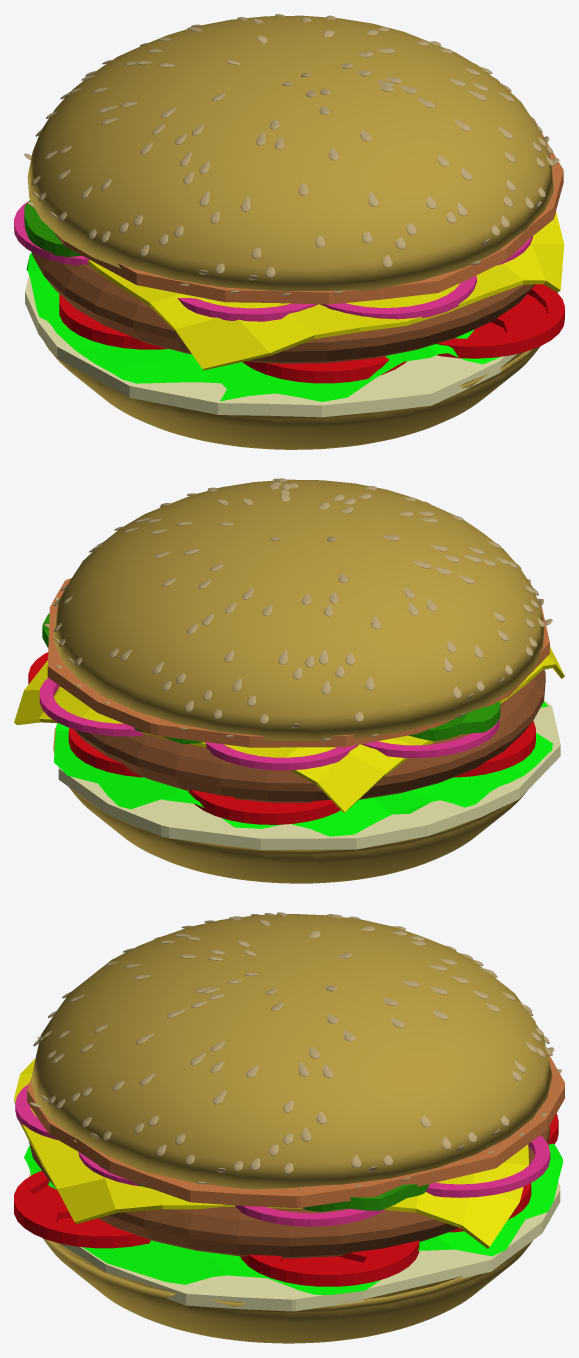
The model's file is M_hamburger.fbx.
3 views of the same model, one above another, from view 1: azimuth 30°, elevation 25°; view 2: azimuth 150°, elevation 25°; view 3: azimuth 270°, elevation 25° (orthographic). The views are drawn at different scales.
Visible parts, largest first — view 1: top broodje, Plane.002, Plane, bodem broodje, Cylinder.007, Plane.001, Plane.003, Cylinder.004, Cylinder.005, Cylinder.014, Cylinder.003, Cylinder.010 (+2 smaller); view 2: top broodje, Cylinder.007, Plane, bodem broodje, Plane.001, Plane.002, Plane.003, Cylinder.001, Cylinder.012, Cylinder.008, Cylinder.011, Cylinder.018 (+2 smaller); view 3: top broodje, bodem broodje, Cylinder.007, Plane.002, Plane.003, Plane, Plane.001, Cylinder.002, Cylinder.004, Cylinder.008, Cylinder.013, Cylinder.016 (+1 smaller).
Boxes of the visible parts, x1=… form: top broodje: x1=27, y1=15, x2=553, y2=294; Plane.002: x1=88, y1=211, x2=564, y2=370; Plane: x1=25, y1=275, x2=516, y2=417; bodem broodje: x1=44, y1=342, x2=540, y2=449; Cylinder.007: x1=32, y1=252, x2=535, y2=363; Plane.001: x1=26, y1=252, x2=500, y2=401; Plane.003: x1=54, y1=117, x2=563, y2=304; Cylinder.004: x1=437, y1=284, x2=564, y2=358; Cylinder.005: x1=243, y1=356, x2=406, y2=383; Cylinder.014: x1=320, y1=275, x2=476, y2=319; Cylinder.003: x1=59, y1=294, x2=168, y2=349; Cylinder.010: x1=177, y1=298, x2=317, y2=321; top broodje: x1=53, y1=479, x2=544, y2=740; Cylinder.007: x1=74, y1=669, x2=545, y2=802; Plane: x1=58, y1=700, x2=560, y2=849; bodem broodje: x1=53, y1=726, x2=526, y2=883; Plane.001: x1=54, y1=701, x2=552, y2=836; Plane.002: x1=14, y1=647, x2=564, y2=812; Plane.003: x1=47, y1=578, x2=549, y2=747; Cylinder.001: x1=188, y1=790, x2=340, y2=824; Cylinder.012: x1=205, y1=742, x2=358, y2=770; Cylinder.008: x1=39, y1=678, x2=144, y2=736; Cylinder.011: x1=361, y1=719, x2=499, y2=757; Cylinder.018: x1=408, y1=701, x2=500, y2=741; top broodje: x1=31, y1=914, x2=552, y2=1189; bodem broodje: x1=43, y1=1238, x2=532, y2=1343; Cylinder.007: x1=28, y1=1126, x2=549, y2=1258; Plane.002: x1=14, y1=1059, x2=528, y2=1248; Plane.003: x1=27, y1=1054, x2=564, y2=1208; Plane: x1=28, y1=1172, x2=560, y2=1311; Plane.001: x1=24, y1=1143, x2=562, y2=1294; Cylinder.002: x1=240, y1=1240, x2=419, y2=1286; Cylinder.004: x1=14, y1=1170, x2=150, y2=1248; Cylinder.008: x1=425, y1=1135, x2=550, y2=1197; Cylinder.013: x1=235, y1=1205, x2=385, y2=1226; Cylinder.016: x1=302, y1=1184, x2=429, y2=1211.
Size of the model in its own units: 216 by 130 by 211.
